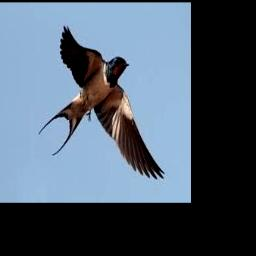Swallow: (39, 24, 165, 178)
